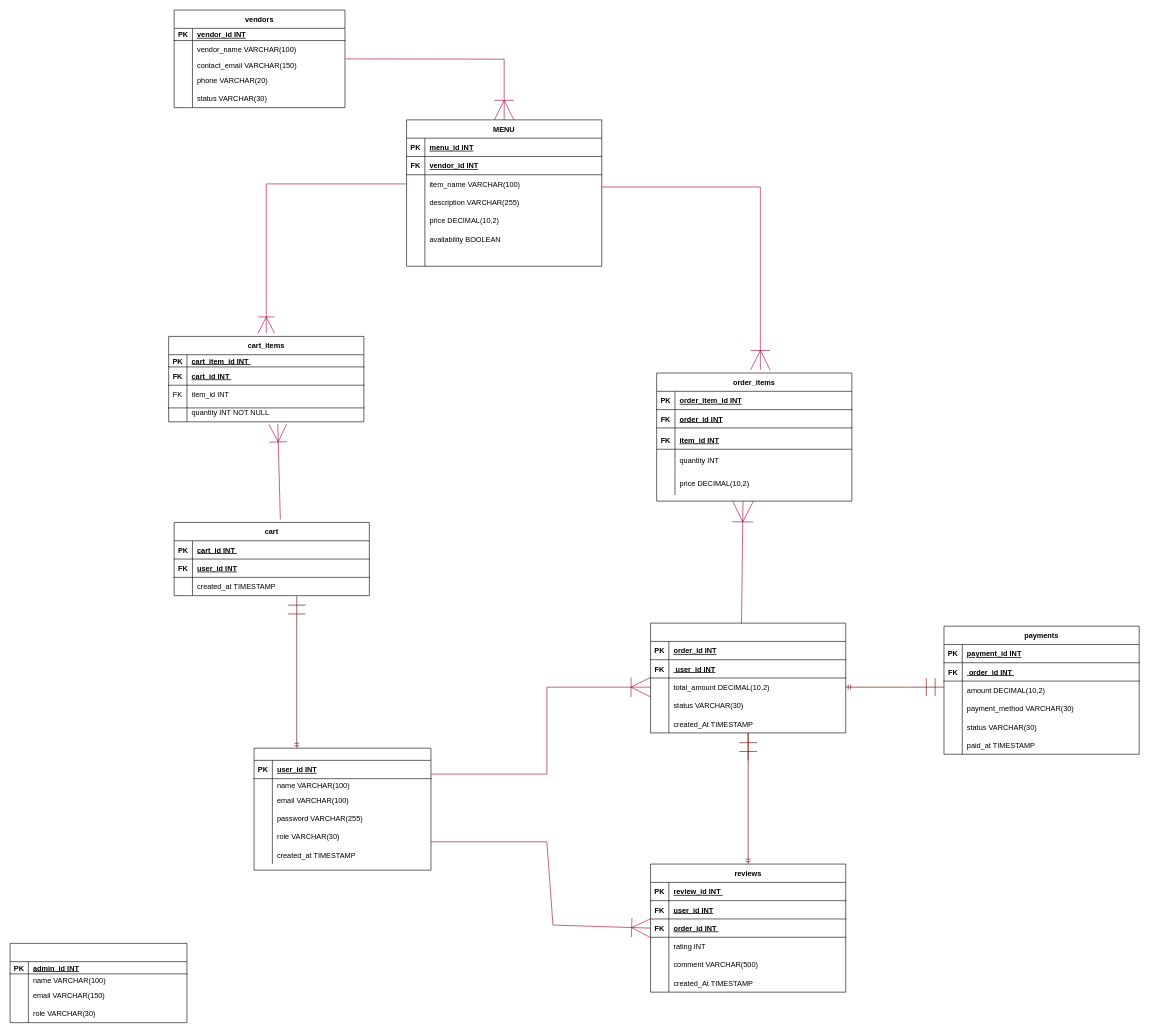
The diagram is 1149 pixels wide and 1033 high, and some of its shapes have lost their labels. Here are the shapes that lost their labels. From the top down, the box of each, then its label:
(650, 623, 846, 733): orders
(253, 748, 431, 870): Users
(9, 943, 187, 1023): admins
